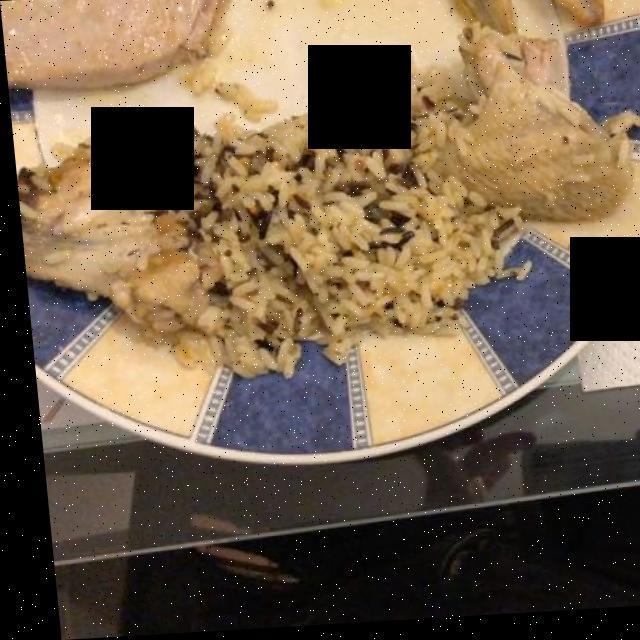chicken: (23, 28, 627, 370)
rice: (164, 59, 528, 390)
